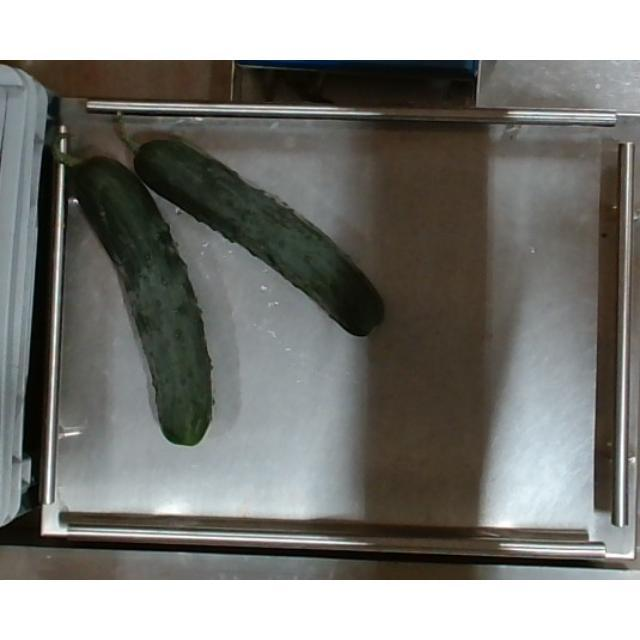cucumber: (128, 126, 388, 340), (49, 111, 213, 448)
